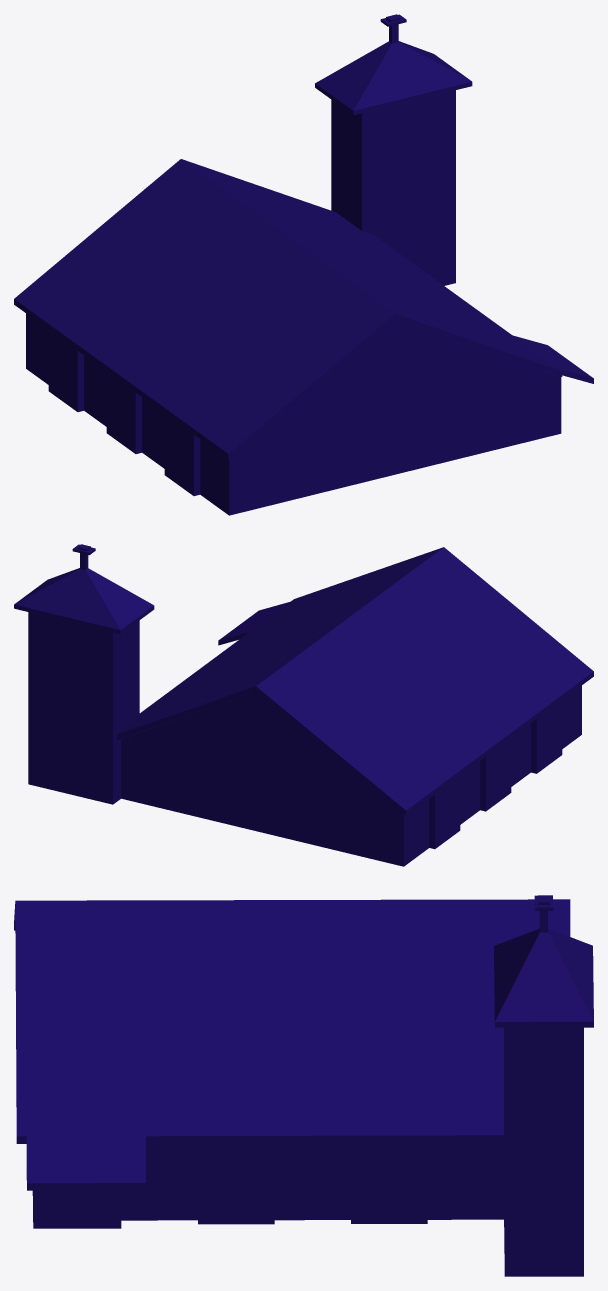
The model's file is iglesia.glb.
3 views of the same model, one above another, from view 1: azimuth 30°, elevation 25°; view 2: azimuth 150°, elevation 25°; view 3: azimuth 270°, elevation 25° (orthographic). The views are drawn at different scales.
Parts seen in each view (by area): view 1: iglesia; view 2: iglesia; view 3: iglesia.
Part boxes in pixels (x1,y1,x2,y2): iglesia: [14, 14, 593, 515]; iglesia: [14, 544, 593, 866]; iglesia: [14, 895, 593, 1276].
Size of the model in its own units: 126 by 74.64 by 113.
